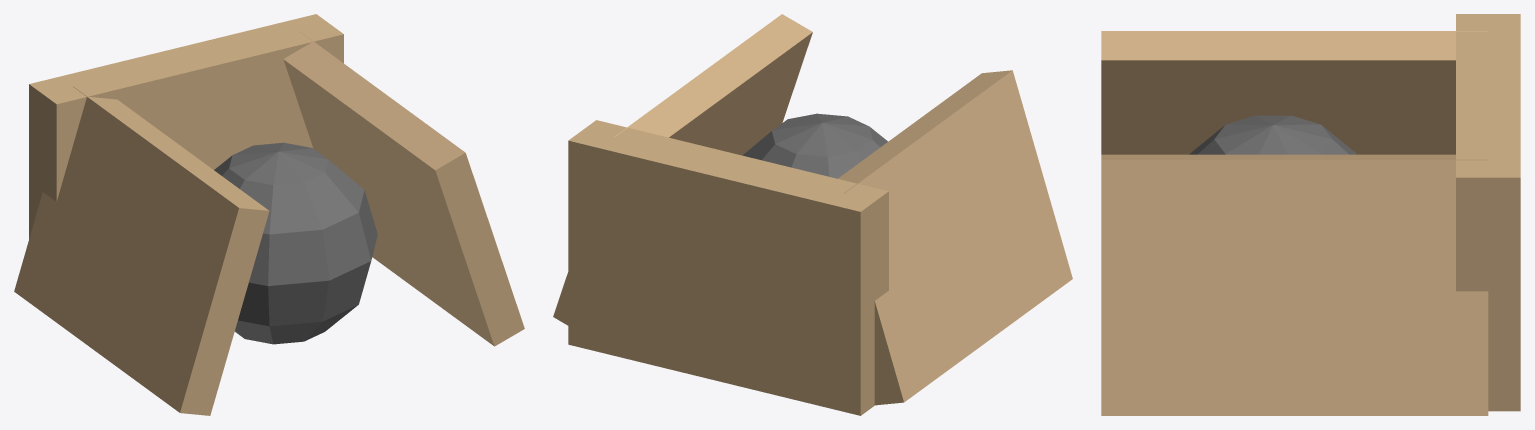
The model's file is SM_Weapon_MineBay_01.glb.
3 renders of one model, left to right at view 1: azimuth 30°, elevation 25°; view 2: azimuth 150°, elevation 25°; view 3: azimuth 270°, elevation 25°, orthographic. The views are drawn at different scales.
Visible parts, largest first — view 1: SM_MineBay_L, SM_MineBay_R, SM_MineBay_Back, SM_MineBay_Mine; view 2: SM_MineBay_Back, SM_MineBay_L, SM_MineBay_R, SM_MineBay_Mine; view 3: SM_MineBay_R, SM_MineBay_L, SM_MineBay_Back, SM_MineBay_Mine.
Part boxes in pixels (<box>): SM_MineBay_L: <box>14,86,269,415</box>; SM_MineBay_R: <box>283,31,524,346</box>; SM_MineBay_Back: <box>29,14,343,238</box>; SM_MineBay_Mine: <box>214,142,377,344</box>; SM_MineBay_Back: <box>568,120,888,415</box>; SM_MineBay_L: <box>838,70,1072,405</box>; SM_MineBay_R: <box>553,14,812,325</box>; SM_MineBay_Mine: <box>742,113,887,178</box>; SM_MineBay_R: <box>1101,154,1488,415</box>; SM_MineBay_L: <box>1101,31,1488,154</box>; SM_MineBay_Back: <box>1456,14,1520,411</box>; SM_MineBay_Mine: <box>1189,115,1356,154</box>.
Bounding box in the file's own units: 0.4322 × 0.2503 × 0.39.
